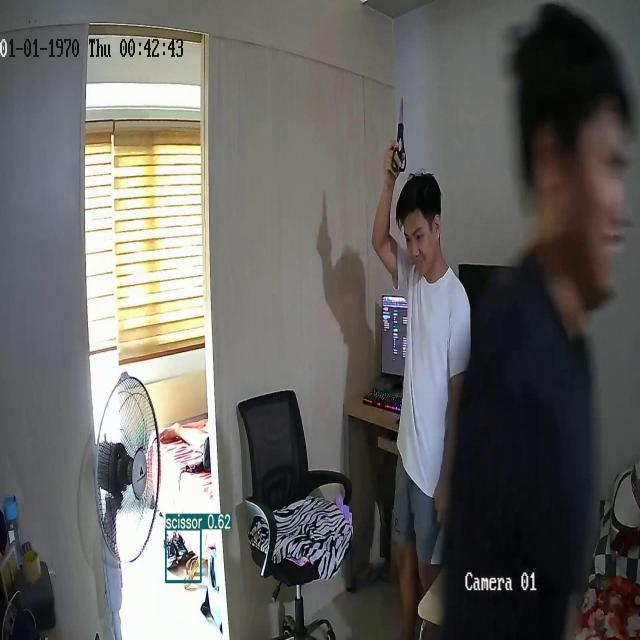scissor: (392, 98, 408, 172)
